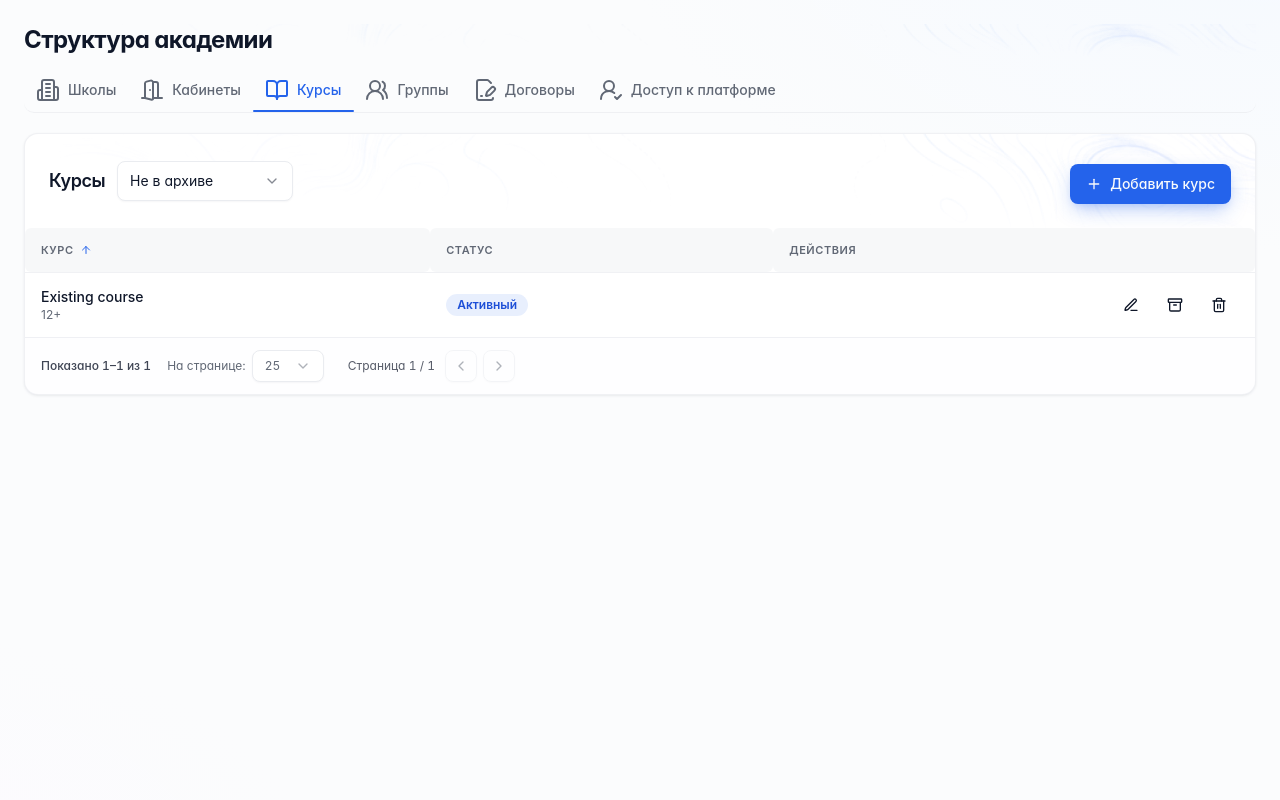
Test case: preserves malformed stored curriculum while saving course metadata
Click the button named "Редактировать" at point(1131, 304), box [1111,284,1151,324]
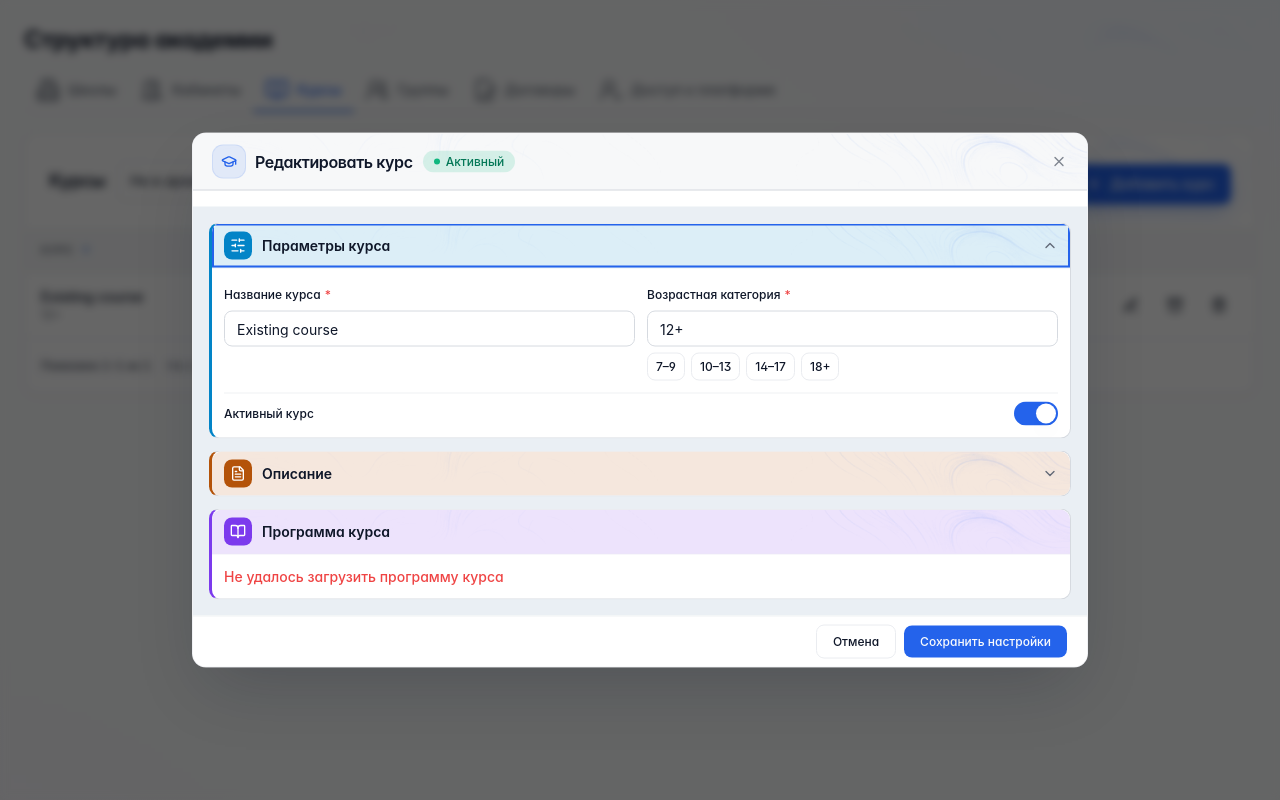
expect the message reads "Не удалось загрузить программу курса": met, box [224,568,504,584]
Replace the text in the field labelled "Название курса" with "Updated course" at point(430, 328), box [224,310,635,346]
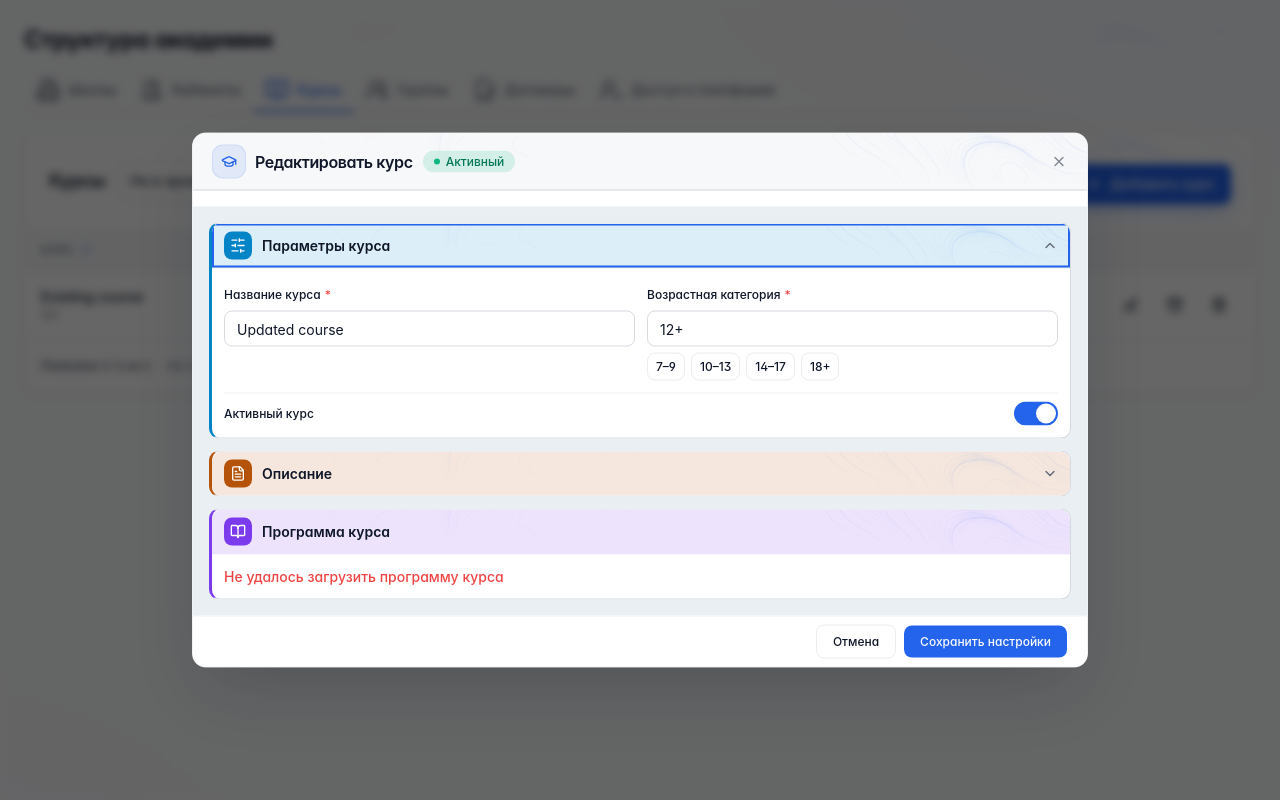
Click the button "Сохранить настройки" at point(986, 642), box [904,626,1067,658]
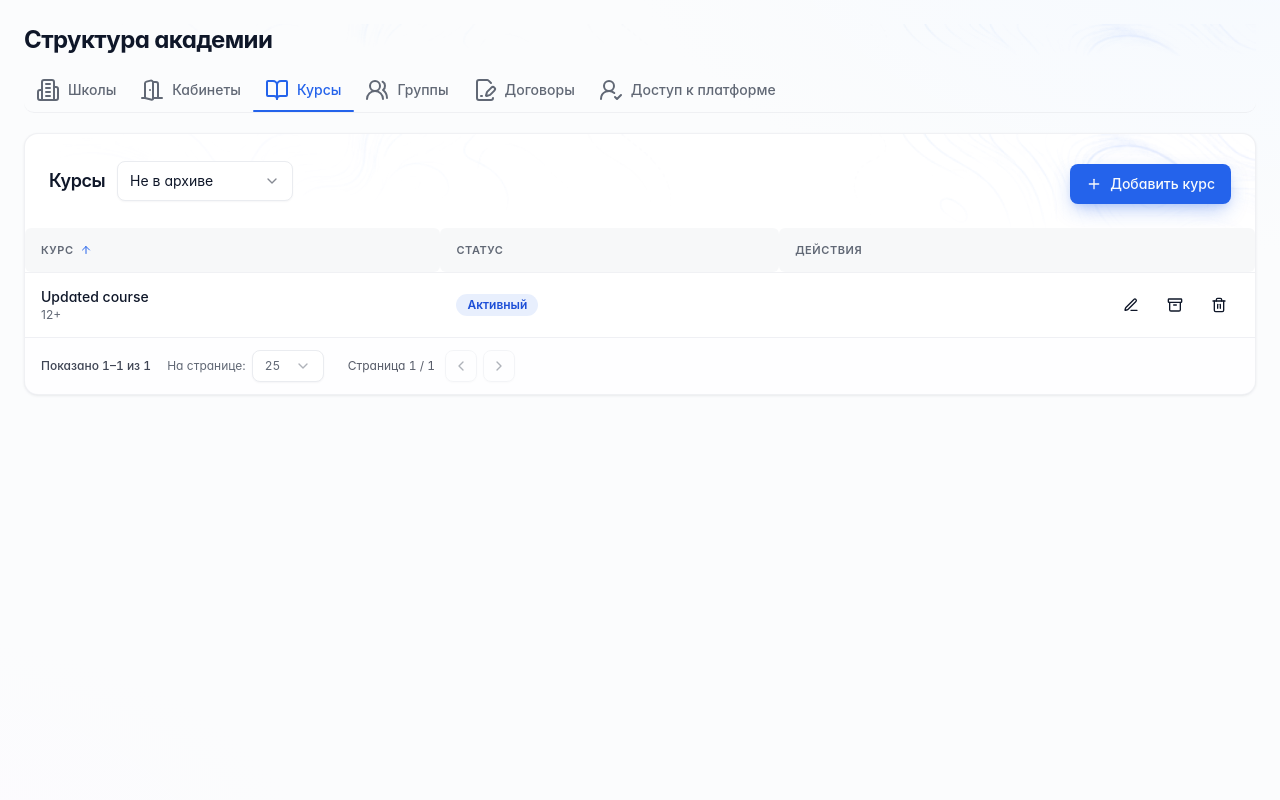
expect the dialog is gone: met
Click the button named "Редактировать" at point(1131, 304), box [1111,284,1151,324]
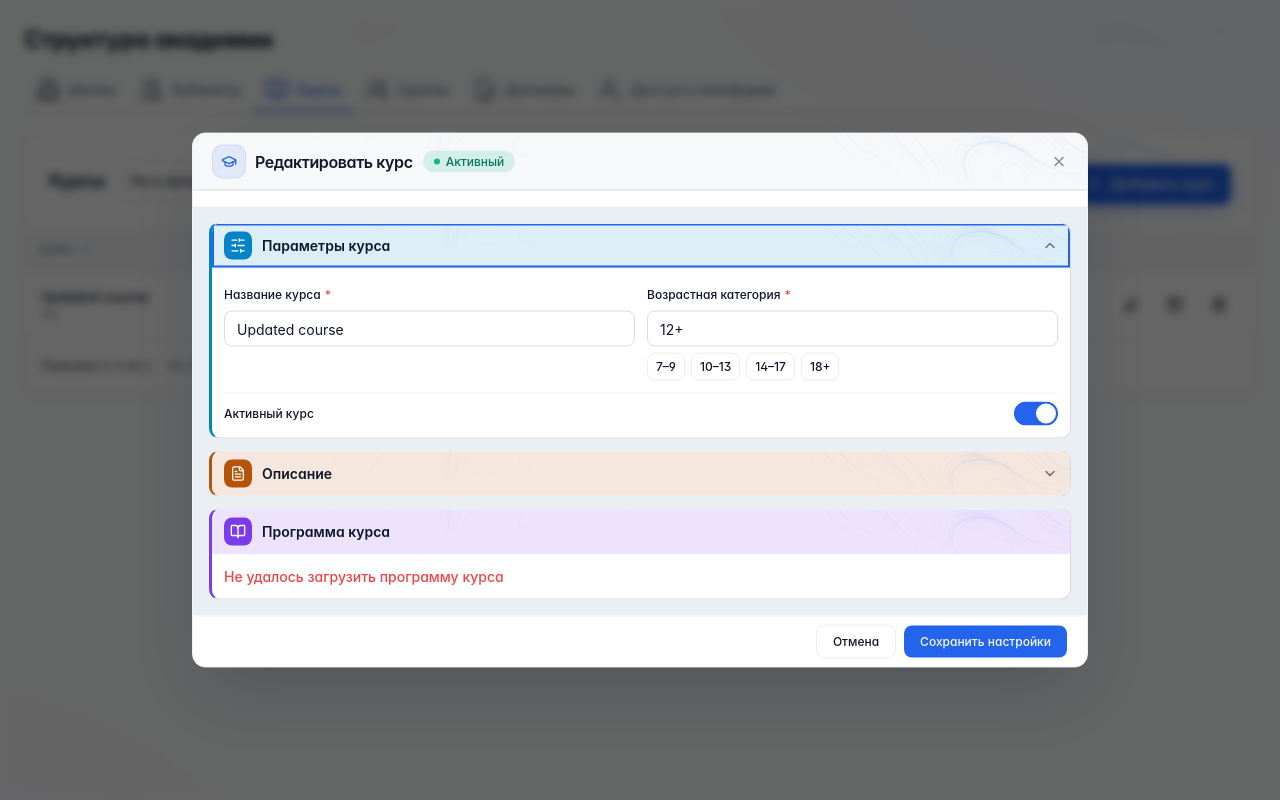
expect the message reads "Не удалось загрузить программу курса": met, box [224,568,504,584]
